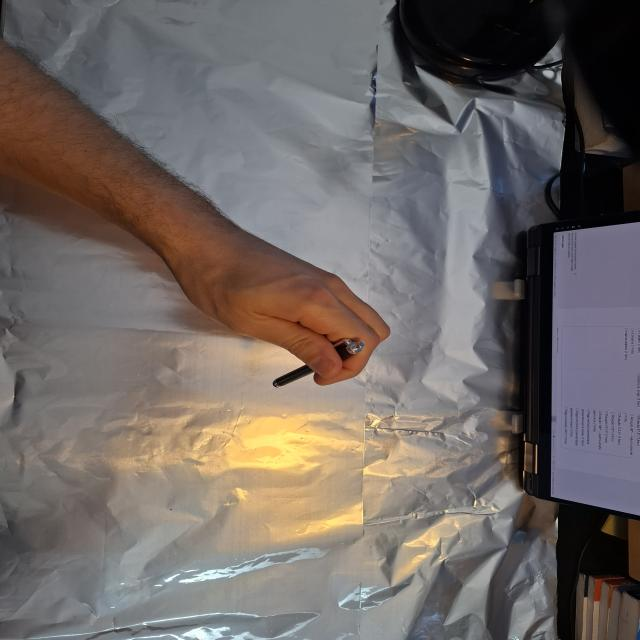glove_off: (166, 239, 390, 383)
